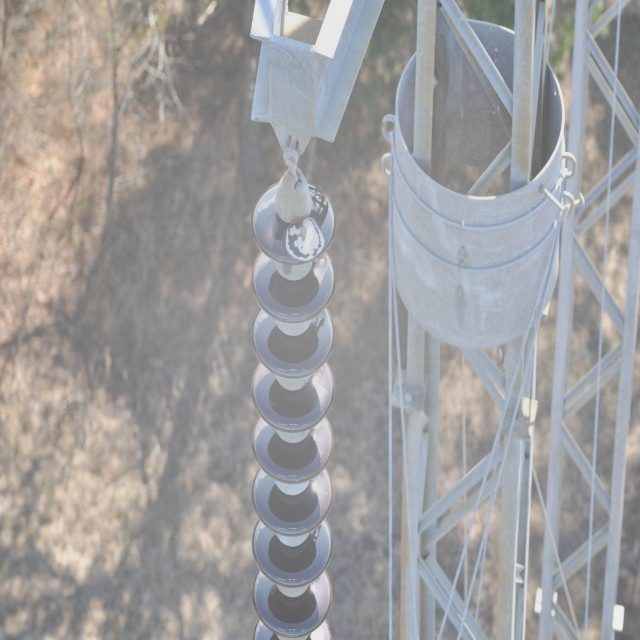insulator: (249, 180, 334, 640)
